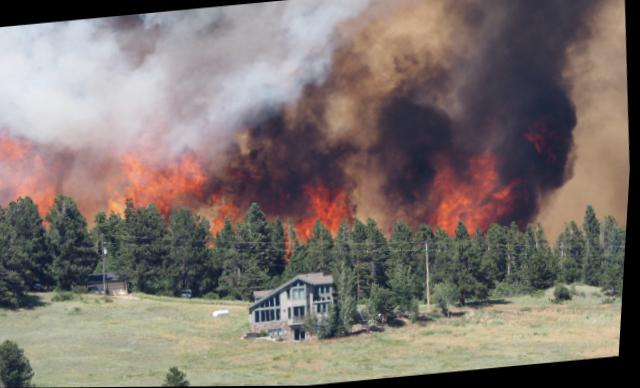fire: (0, 85, 377, 274), (398, 134, 569, 242)
